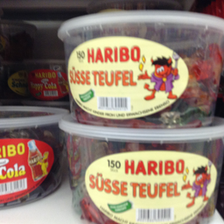candy: (61, 14, 223, 129), (56, 118, 222, 224)
